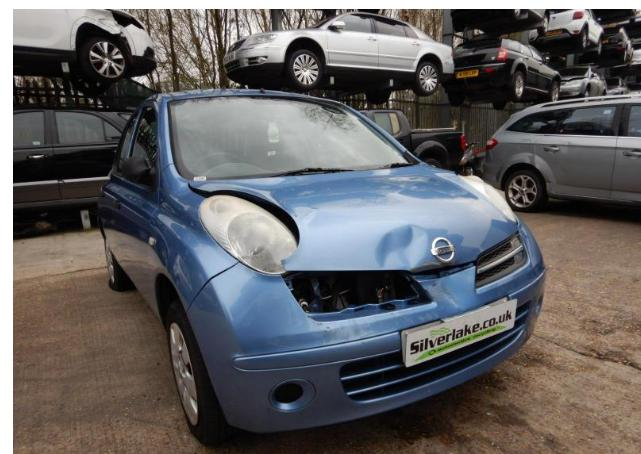Back-door: (100, 105, 141, 263)
Back-wheel: (105, 238, 134, 291)
Back-window: (118, 118, 134, 173)
Fender: (148, 163, 239, 330), (404, 151, 429, 165)
Front-bumper: (187, 213, 546, 432)
Front-door: (114, 100, 162, 313)
Front-wheel: (165, 302, 233, 444)
Front-window: (130, 106, 155, 167)
Grille: (475, 232, 530, 289)
Headlight: (199, 195, 297, 275), (458, 175, 517, 224)
Hood: (189, 163, 519, 273)
License-plate: (402, 297, 516, 366)
Mirror: (124, 155, 155, 187)
Roof: (161, 89, 340, 103)
Windshield: (168, 96, 410, 181)
